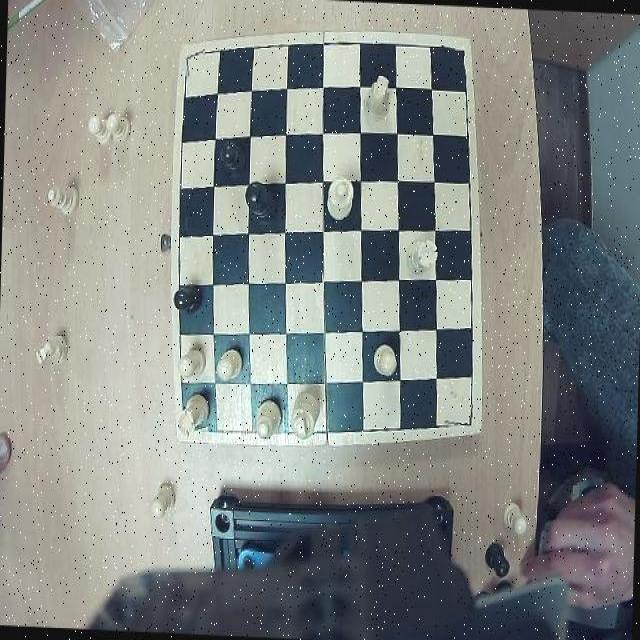chess-table-corners: (446, 400, 478, 432), (176, 411, 208, 442), (441, 41, 470, 68), (182, 47, 208, 76)
